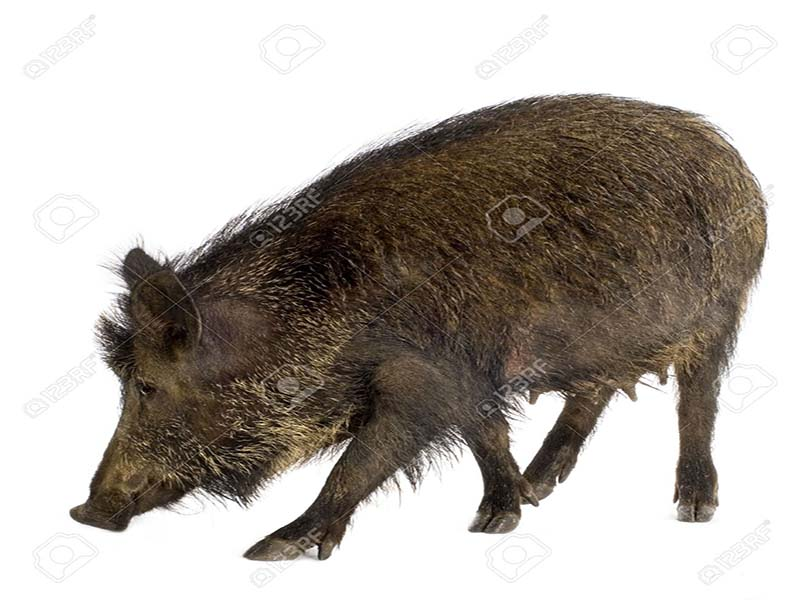cinghiale: (83, 79, 774, 558)
